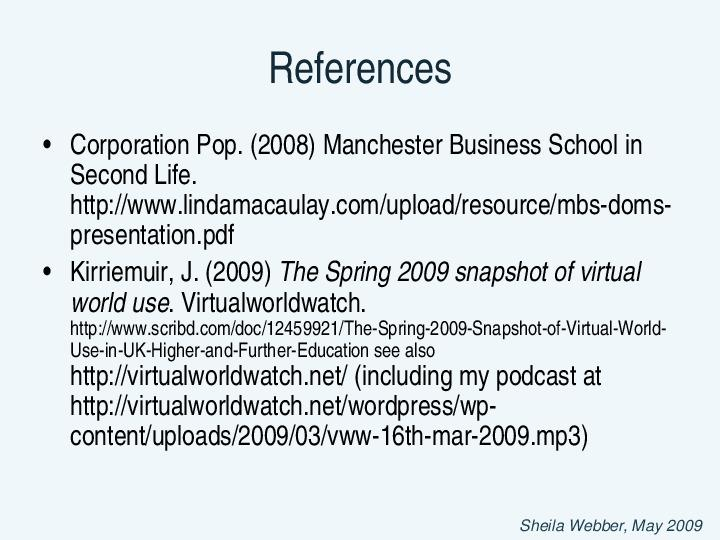paragraph: (27, 125, 688, 464)
subtitle: (510, 511, 711, 540)
title: (263, 39, 459, 94)
